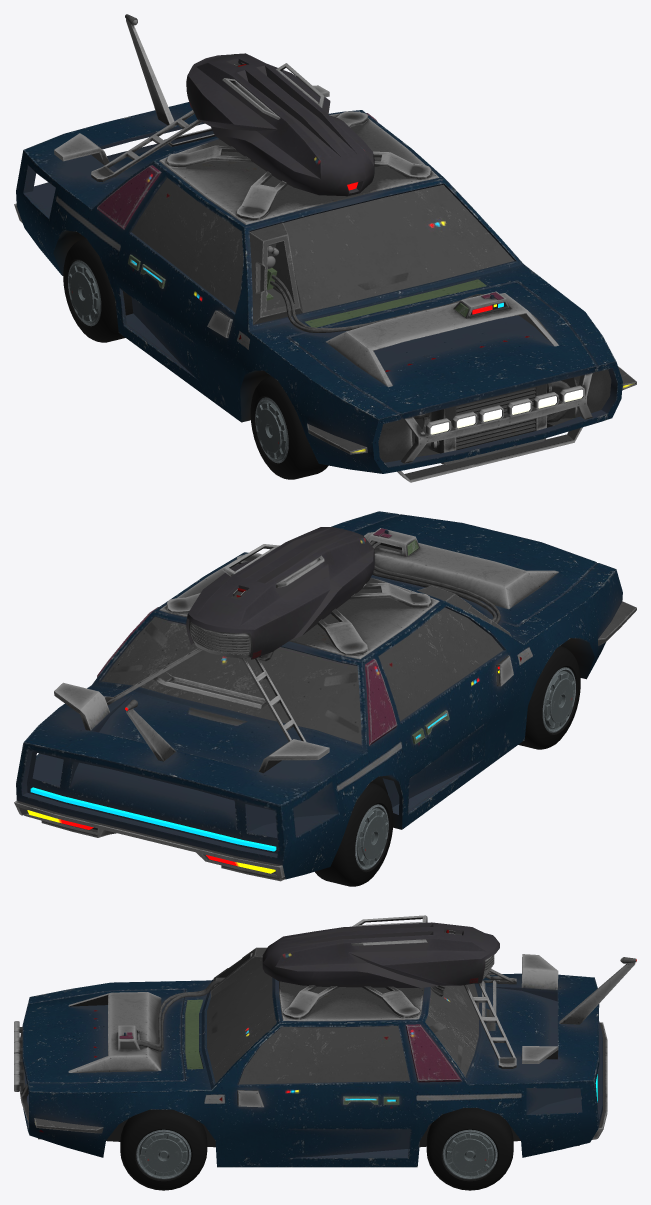
3 renders of one model, top to bottom at view 1: azimuth 30°, elevation 25°; view 2: azimuth 150°, elevation 25°; view 3: azimuth 270°, elevation 25°, orthographic. The views are drawn at different scales.
Visible parts, largest first — view 1: Plane; view 2: Plane; view 3: Plane.
Boxes of the visible parts, x1,y1,x2,y2 form: Plane: (14, 14, 636, 482); Plane: (14, 511, 636, 886); Plane: (14, 915, 636, 1190).
Size of the model in its own units: 1.91 by 1.57 by 4.24.
2 materials, 2 textured.
